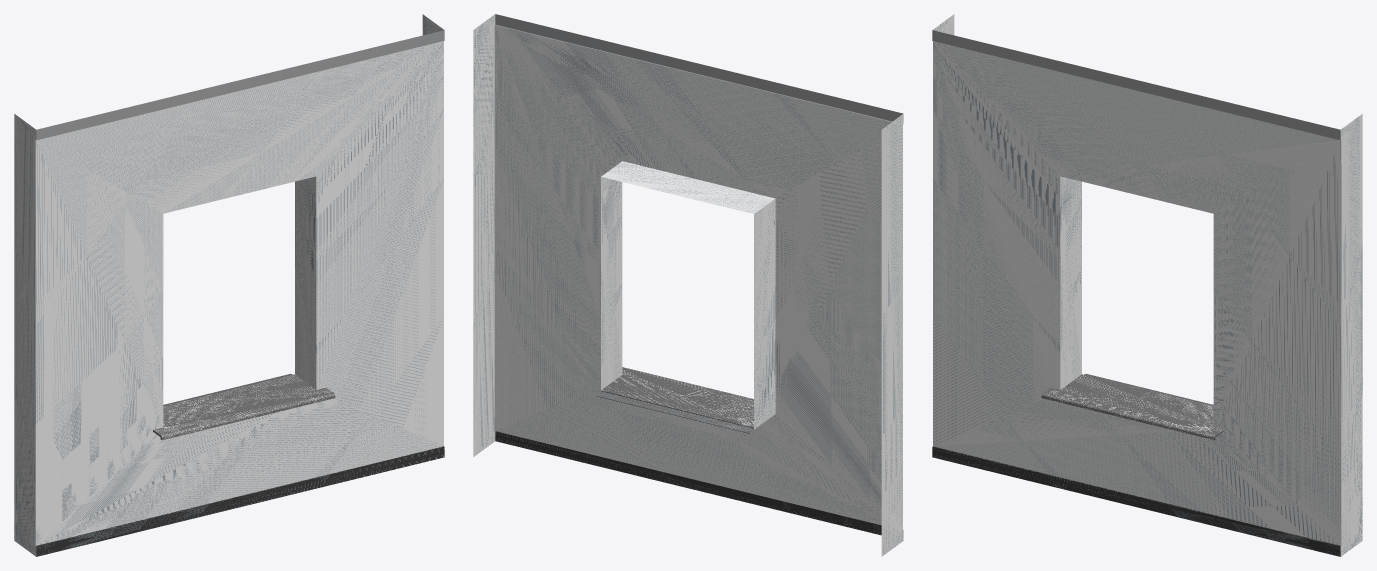
The model's file is WindowBlock_os_plinth_[400x400]_150x200x[090].dae.
The picture shows the model from 3 angles, left to right: view 1: azimuth 30°, elevation 25°; view 2: azimuth 150°, elevation 25°; view 3: azimuth 330°, elevation 25°; orthographic projection.
Parts seen in each view (by area): view 1: group_2 (×4), group_1; view 2: group_2 (×4), group_1 (×2); view 3: group_2 (×4), group_1.
Boxes of the visible parts, left/top/right/bottom form: group_2 (×4): left=14, top=14, right=444, bottom=556; group_1: left=153, top=374, right=335, bottom=440; group_2 (×4): left=473, top=14, right=903, bottom=556; group_1 (×2): left=596, top=367, right=753, bottom=433; group_2 (×4): left=932, top=14, right=1362, bottom=556; group_1: left=1041, top=374, right=1223, bottom=440.
Size of the model in its own units: 157 by 23.03 by 157.
